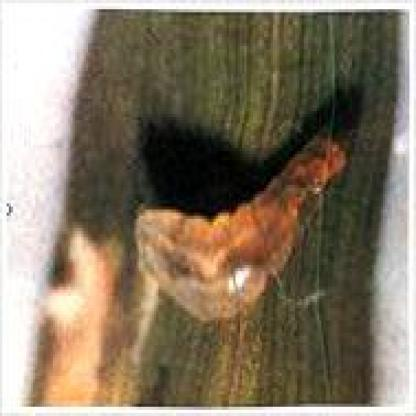whorl-maggot: (132, 128, 354, 328)
